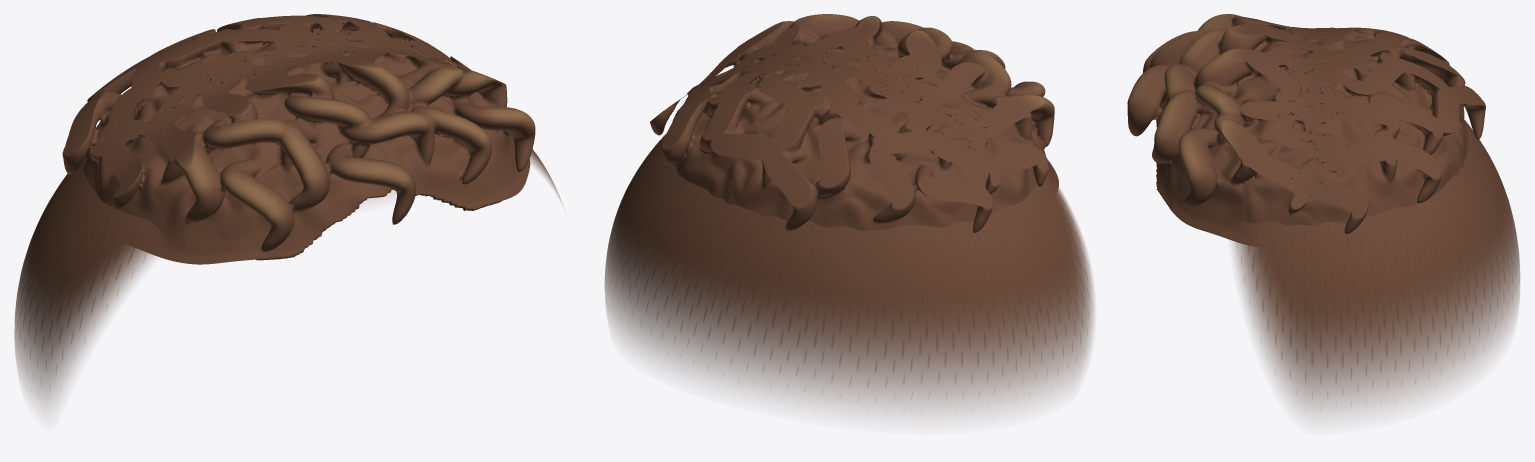
File: Masculine-curly-top-pashmina258-hair-ombre.glb
3 renders of one model, left to right at view 1: azimuth 30°, elevation 25°; view 2: azimuth 150°, elevation 25°; view 3: azimuth 270°, elevation 25°, orthographic. The views are drawn at different scales.
Parts seen in each view (by area): view 1: 226 hair / Hair252 / sculpted curl groups, 226 hair / Hair258 / smooth side fade, 226 hair / Hair258 / directional fade marks; view 2: 226 hair / Hair258 / smooth side fade, 226 hair / Hair252 / sculpted curl groups, 226 hair / Hair258 / directional fade marks; view 3: 226 hair / Hair252 / sculpted curl groups, 226 hair / Hair258 / smooth side fade, 226 hair / Hair258 / directional fade marks.
Part boxes in pixels (bbox=[...]): 226 hair / Hair252 / sculpted curl groups: bbox=[62, 14, 535, 264]; 226 hair / Hair258 / smooth side fade: bbox=[14, 149, 562, 408]; 226 hair / Hair258 / directional fade marks: bbox=[15, 155, 534, 369]; 226 hair / Hair258 / smooth side fade: bbox=[605, 134, 1094, 414]; 226 hair / Hair252 / sculpted curl groups: bbox=[650, 14, 1058, 232]; 226 hair / Hair258 / directional fade marks: bbox=[614, 134, 1088, 386]; 226 hair / Hair252 / sculpted curl groups: bbox=[1127, 14, 1485, 245]; 226 hair / Hair258 / smooth side fade: bbox=[1230, 119, 1519, 415]; 226 hair / Hair258 / directional fade marks: bbox=[1235, 124, 1515, 396].
Bounding box in the file's own units: 0.9705 × 0.6388 × 0.7492.
